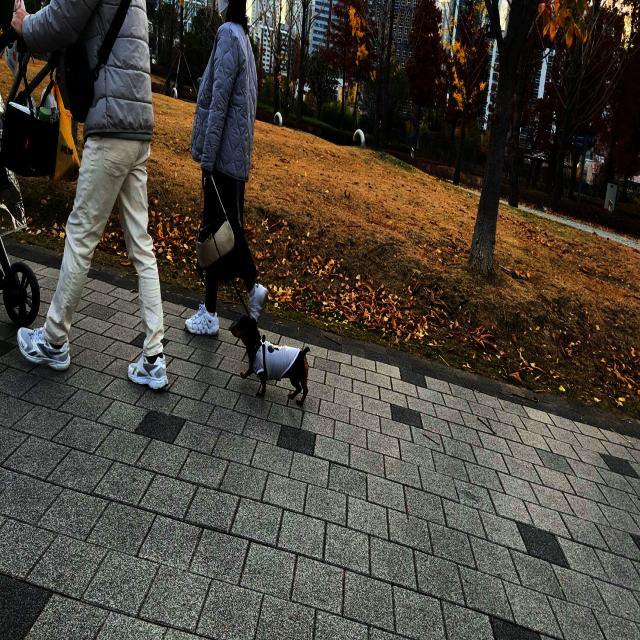Leashed_Dog: (201, 163, 311, 406)
